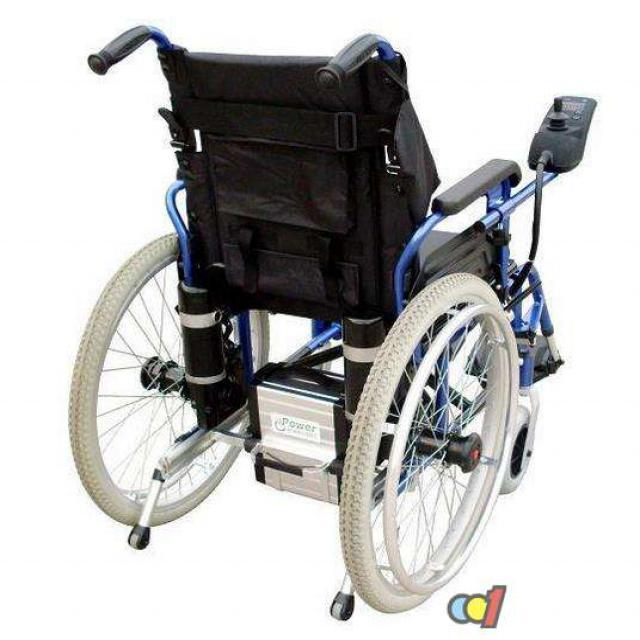wheelchair: (33, 15, 624, 617)
